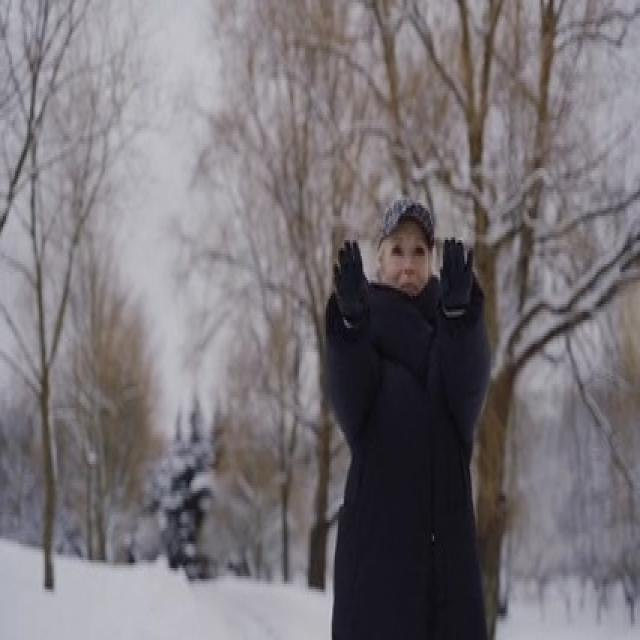Jacket_Wearer: (324, 246, 490, 621)
Person: (322, 175, 491, 630)
